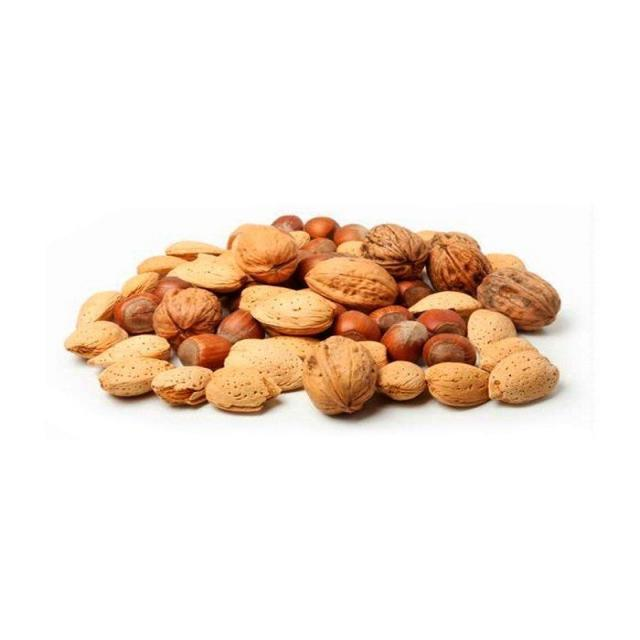Frutta secca: (62, 210, 568, 420)
